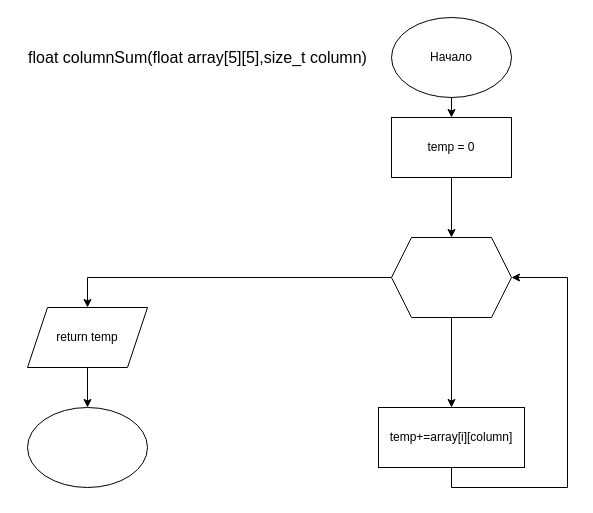
Some shapes in this 593 by 513 pixel diagram are drawn without their labels. Each missing label, with the centre of its shape:
int i=0;i<5;i++: point 451,277
Конец: point 87,447
